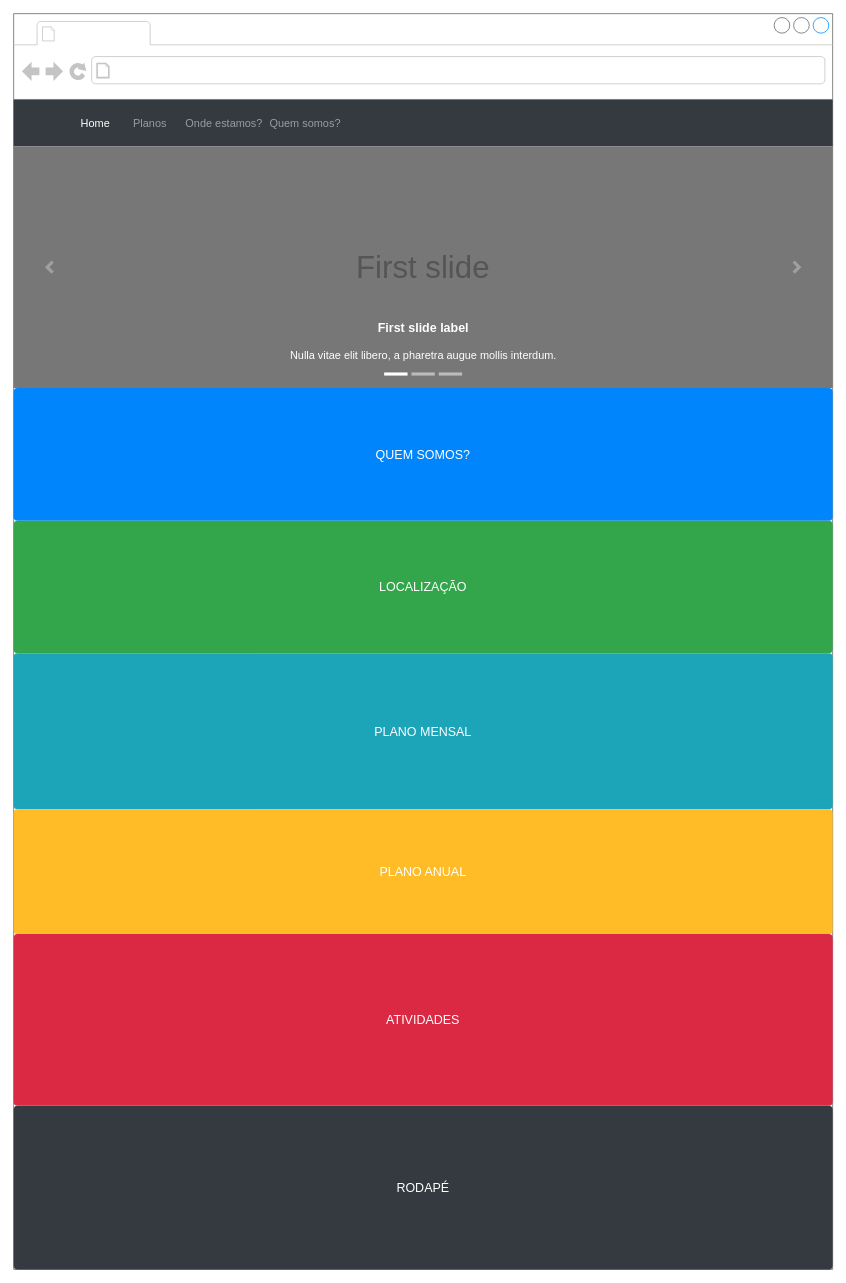
Image size: 846x1283. Some labels were removed from this diagram. The shapes that lost their labels are listed below. From the top down, each one's centre as x and y in pixels, then its label:
At [103,32]: "Page 1".
At [212,70]: "https://www.draw.io".
At [422,122]: "Logo".
